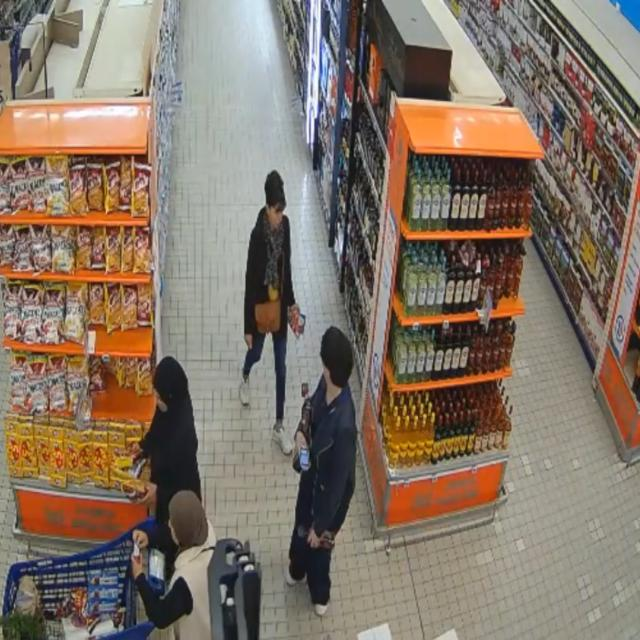article: (108, 453, 148, 480), (302, 383, 315, 448), (122, 479, 148, 501), (287, 309, 305, 338), (320, 531, 335, 548)
bags: (255, 254, 284, 334)
hands: (141, 483, 157, 508), (133, 530, 148, 550), (295, 431, 307, 452), (132, 558, 142, 580), (308, 528, 319, 548), (130, 442, 141, 459), (289, 304, 300, 314), (245, 335, 252, 349)
person: (286, 328, 356, 615), (240, 171, 295, 454), (132, 491, 215, 638), (134, 357, 201, 523)
